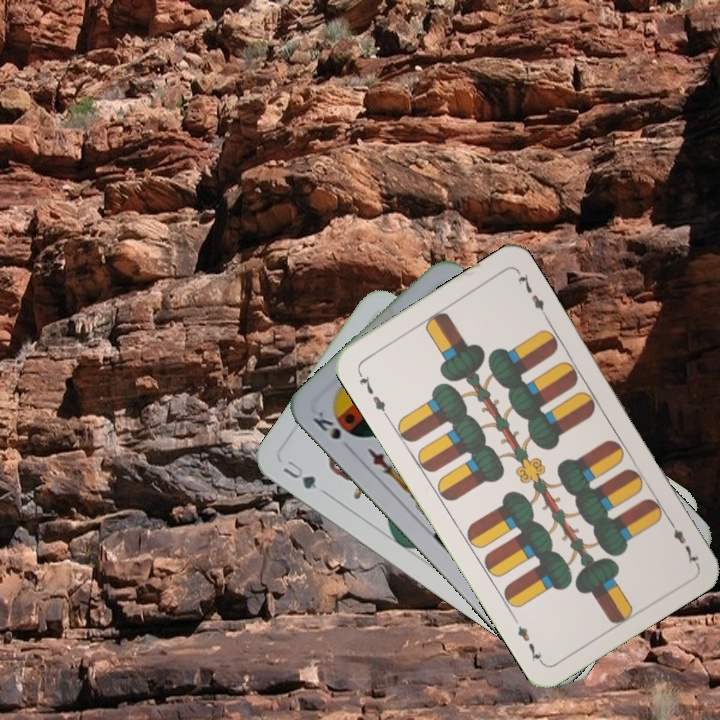E7: (353, 367, 391, 420), (663, 514, 701, 567)
GU: (278, 456, 320, 492)
SK: (308, 407, 344, 442)
